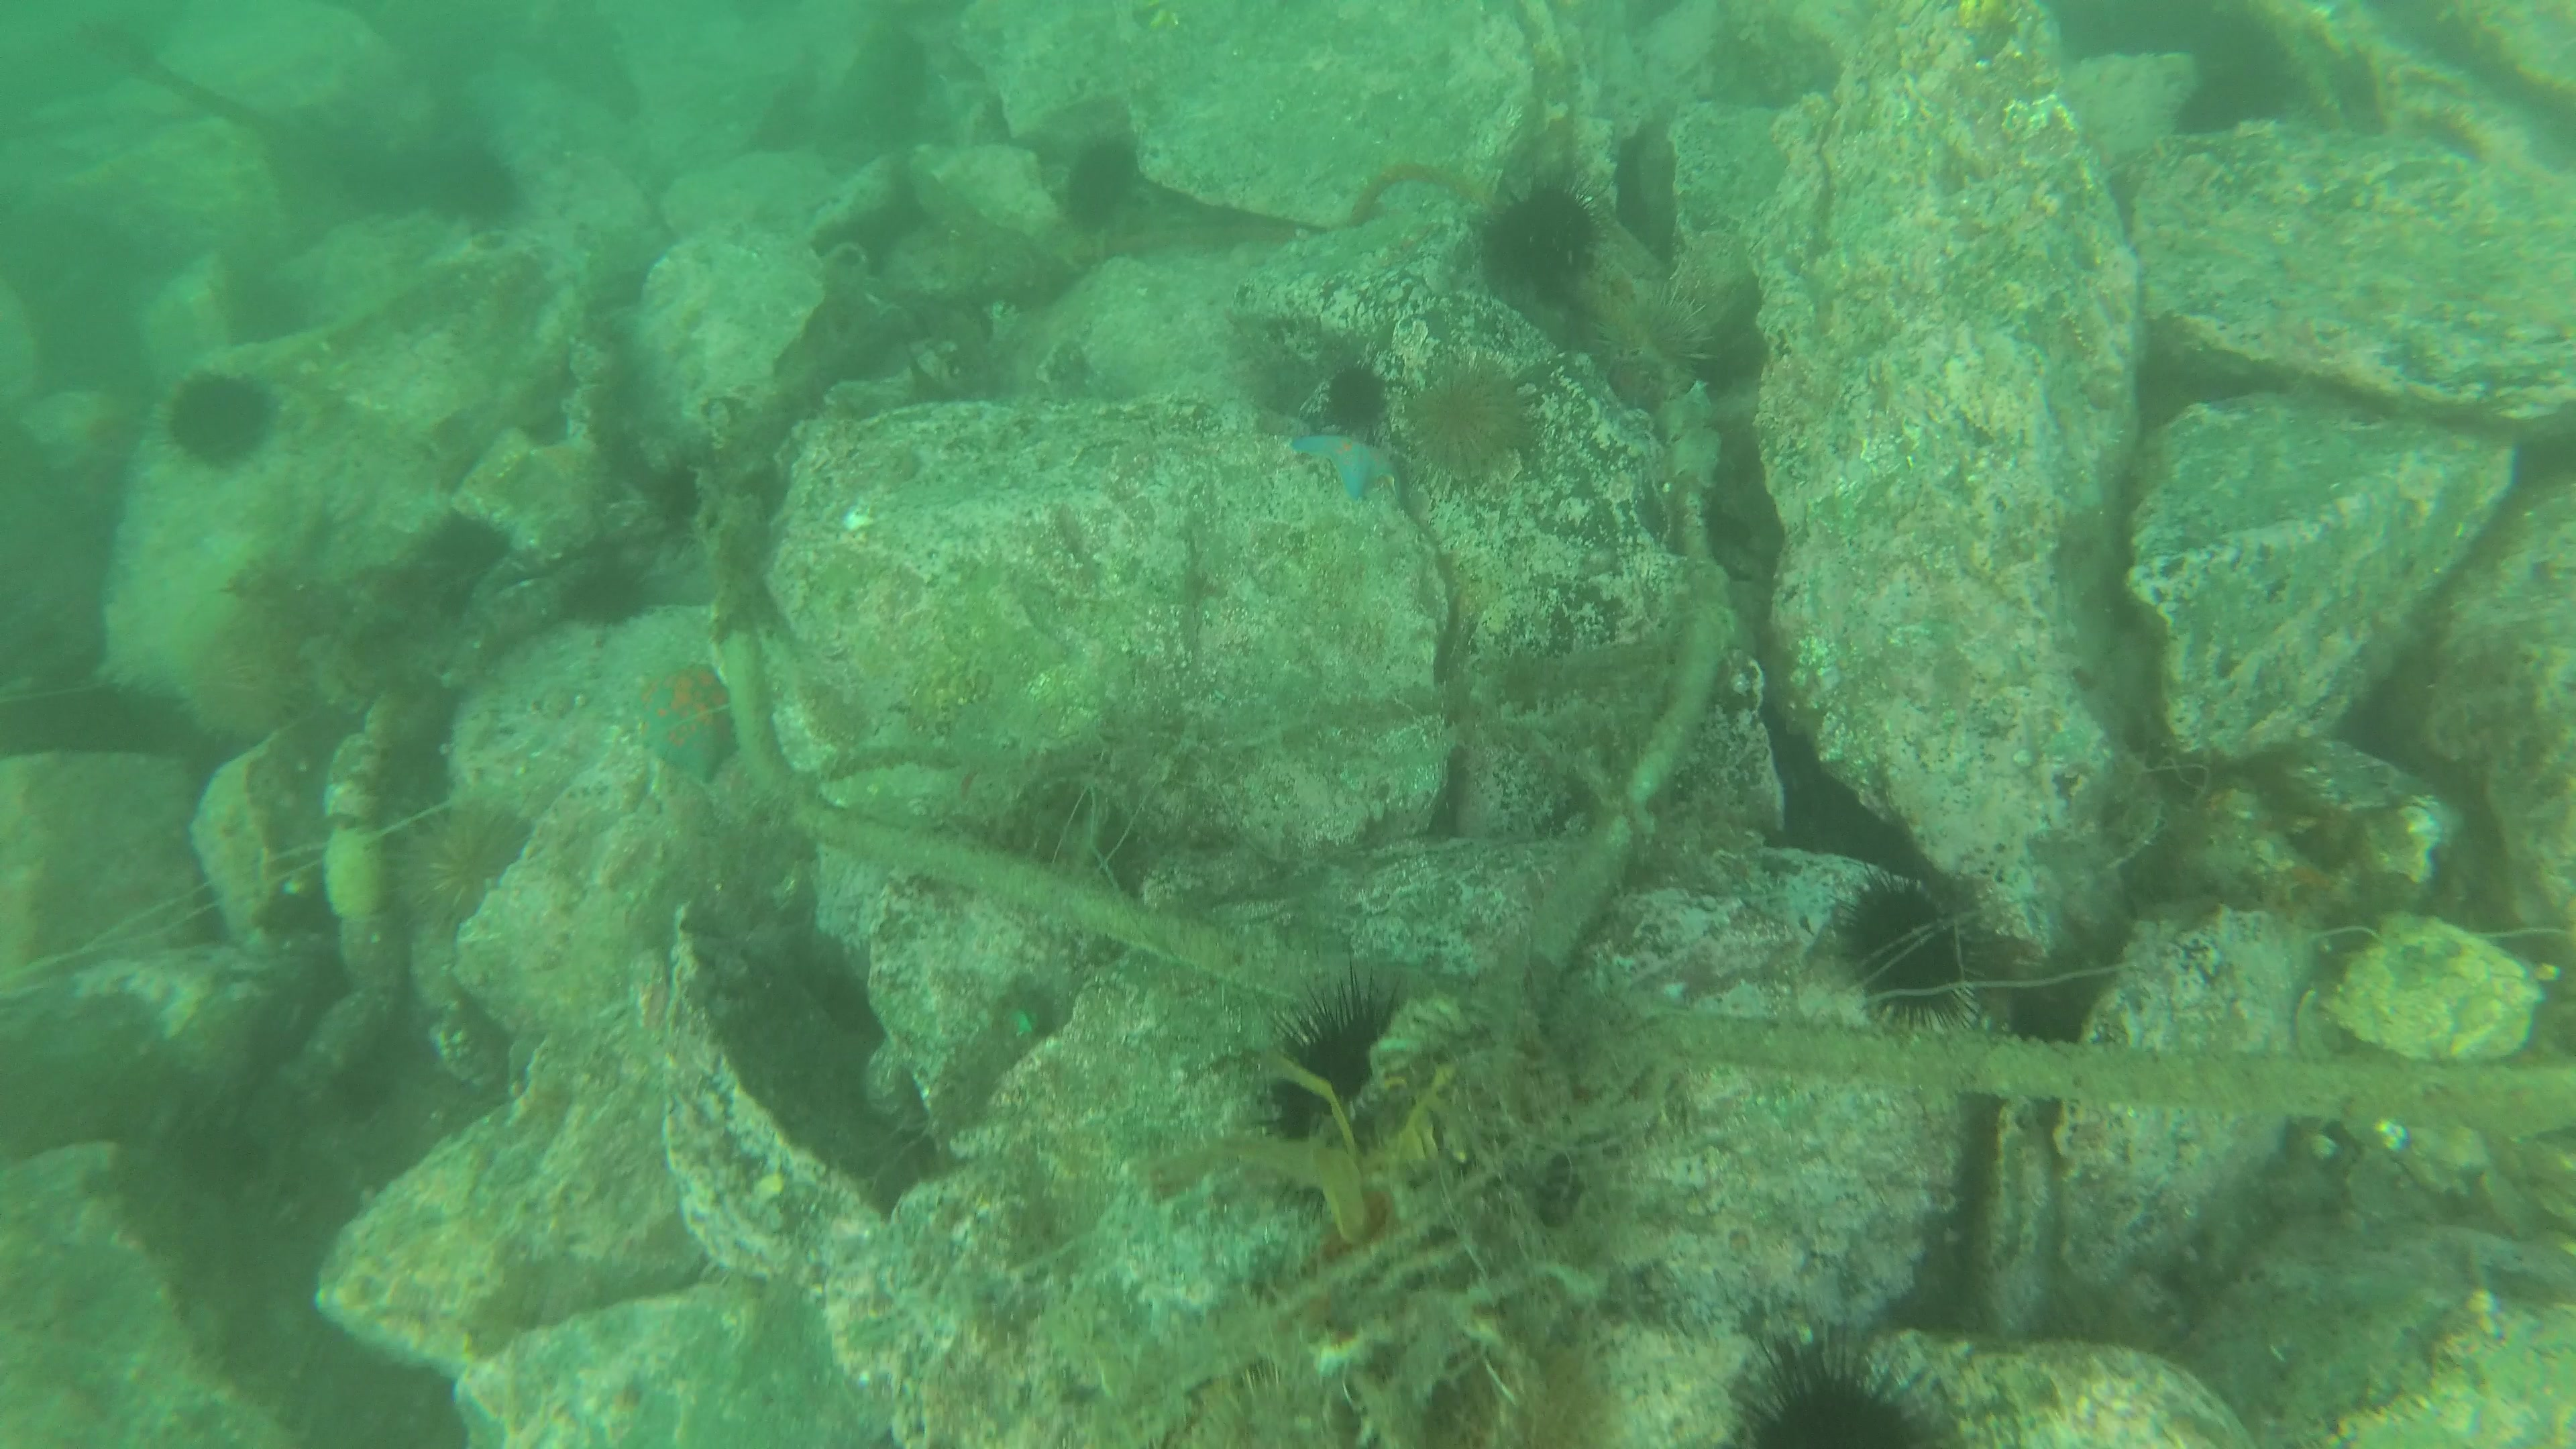echinus: (1730, 1316, 1948, 1449), (1254, 971, 1426, 1139), (1826, 874, 1990, 1035), (380, 782, 529, 925), (166, 609, 294, 729), (1396, 356, 1522, 471), (1599, 272, 1709, 398), (145, 361, 278, 458), (1476, 175, 1591, 287), (1322, 352, 1387, 435)
starfish: (617, 653, 748, 789)
